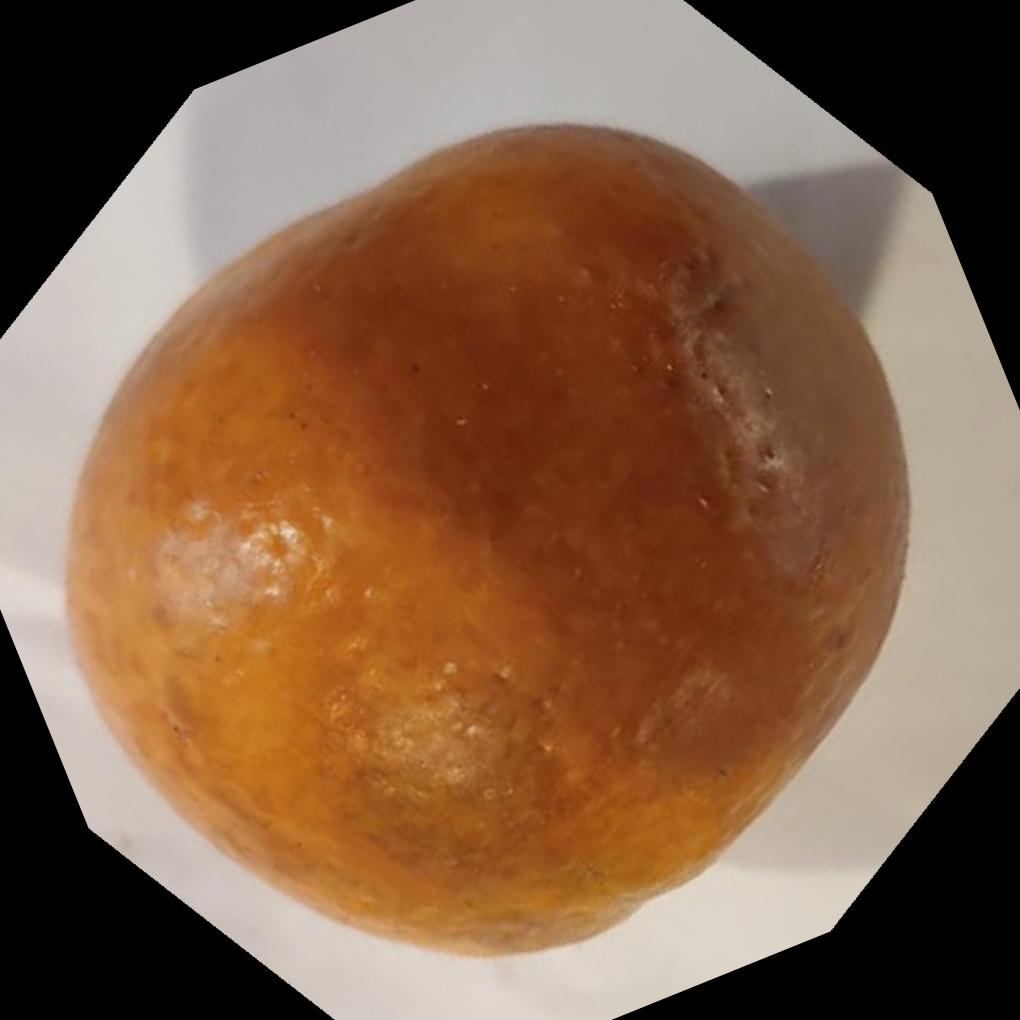FreshOrange: (65, 118, 916, 960)
